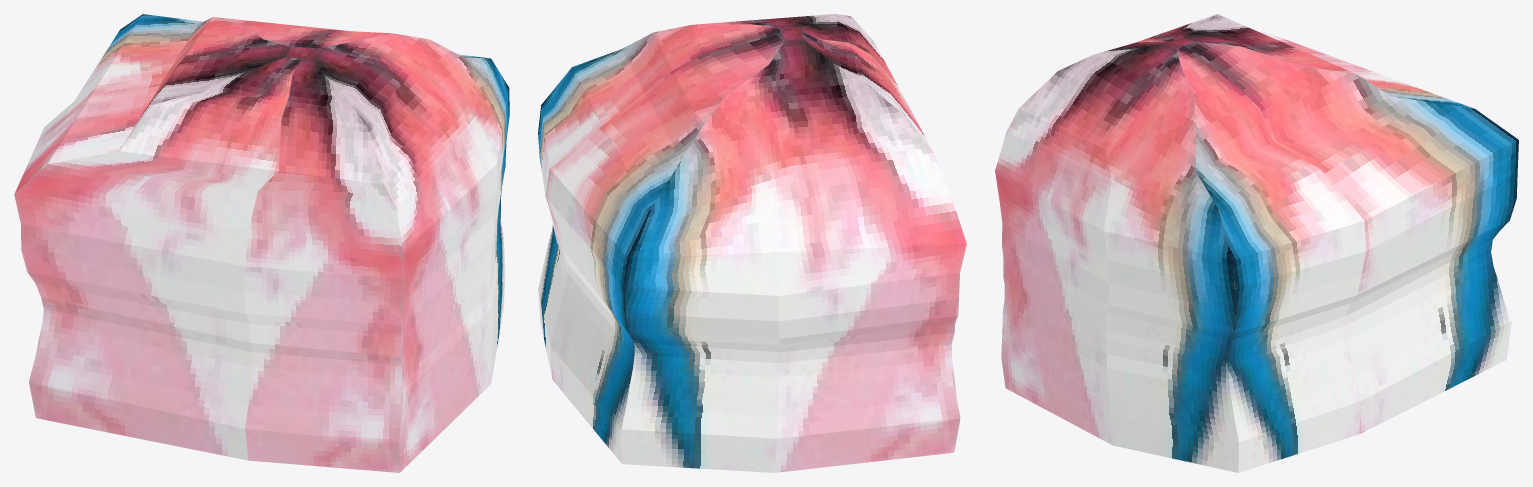
The picture shows the model from 3 angles, left to right: view 1: azimuth 30°, elevation 25°; view 2: azimuth 150°, elevation 25°; view 3: azimuth 270°, elevation 25°; orthographic projection. The views are drawn at different scales.
Parts seen in each view (by area): view 1: SPLICE_1; view 2: SPLICE_1; view 3: SPLICE_1.
Part boxes in pixels (left/top/right/bottom): SPLICE_1: left=14, top=14, right=509, bottom=472; SPLICE_1: left=538, top=14, right=966, bottom=472; SPLICE_1: left=995, top=14, right=1518, bottom=472.
Bounding box in the file's own units: 1.31 × 0.9511 × 1.31.
1 material, 1 textured.
